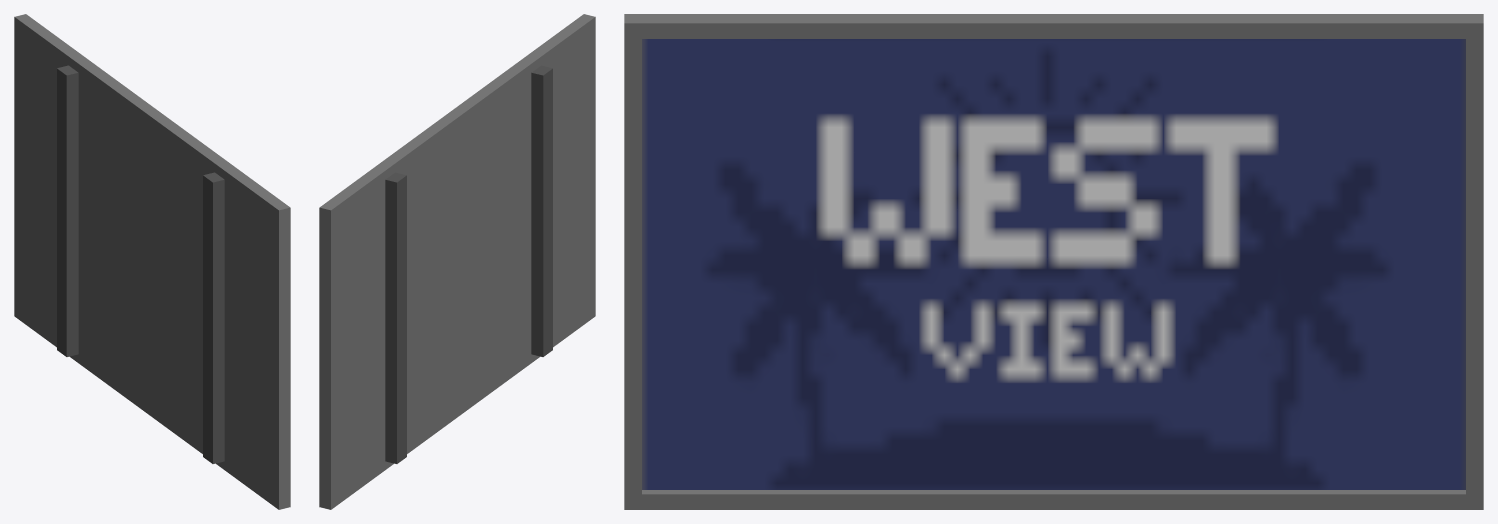
Rendered from Billboard.fbx.
3 renders of one model, left to right at view 1: azimuth 30°, elevation 25°; view 2: azimuth 150°, elevation 25°; view 3: azimuth 270°, elevation 25°, orthographic. The views are drawn at different scales.
Visible parts, largest first — view 1: Cube; view 2: Cube; view 3: Cube.
Boxes of the visible parts, box(x1,y1,x2,y2) form: Cube: box(14, 14, 290, 509); Cube: box(319, 14, 595, 509); Cube: box(624, 14, 1483, 509).
Size of the model in its own units: 37.02 by 452 by 724.
